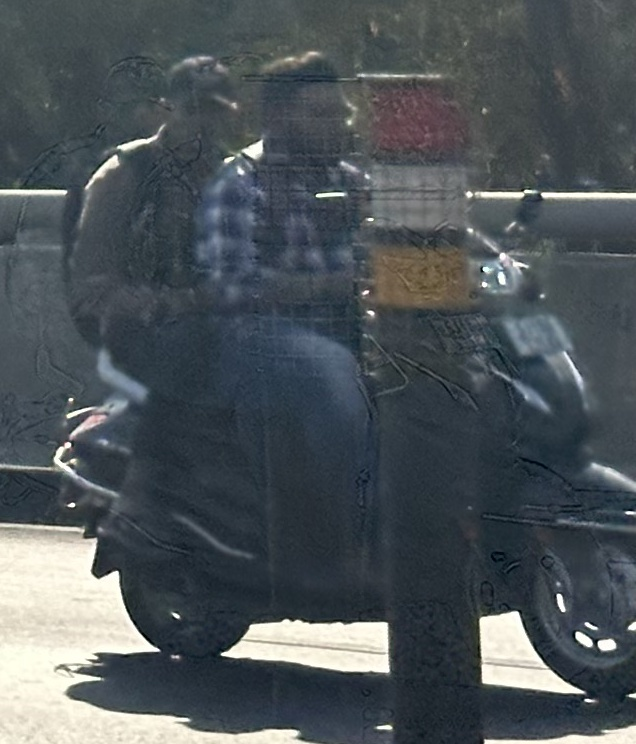BikeWithRider: (41, 37, 636, 706)
NoHelmet: (252, 51, 359, 172), (157, 49, 245, 155)
